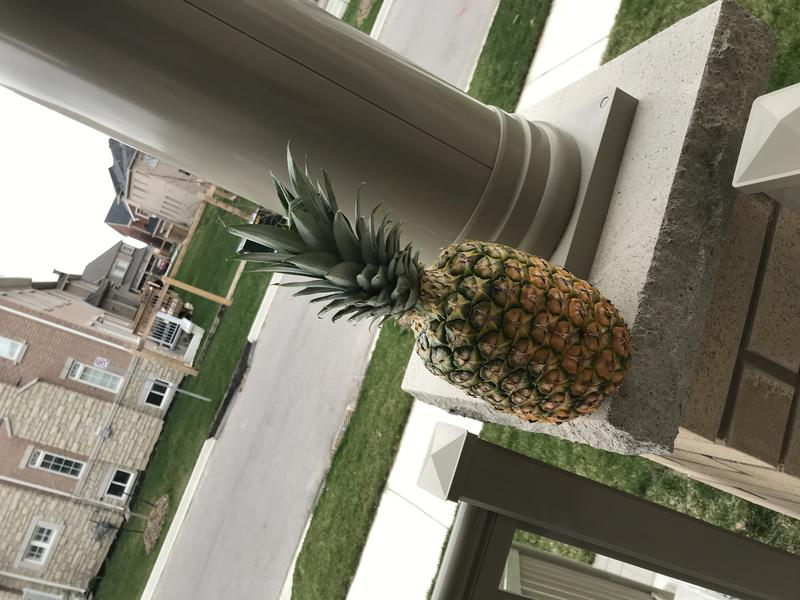pineapple: (214, 133, 641, 435)
